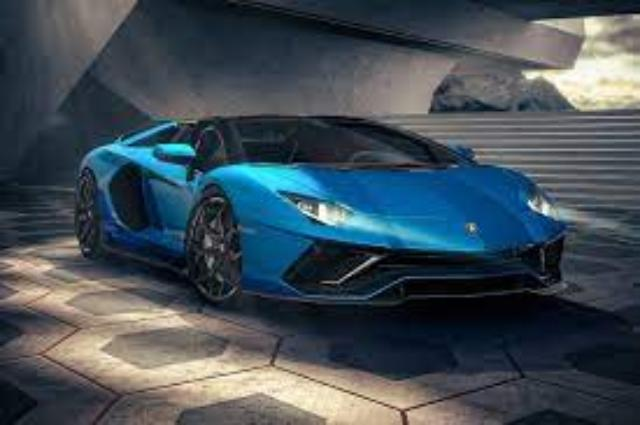lamborghini: (74, 114, 566, 308)
